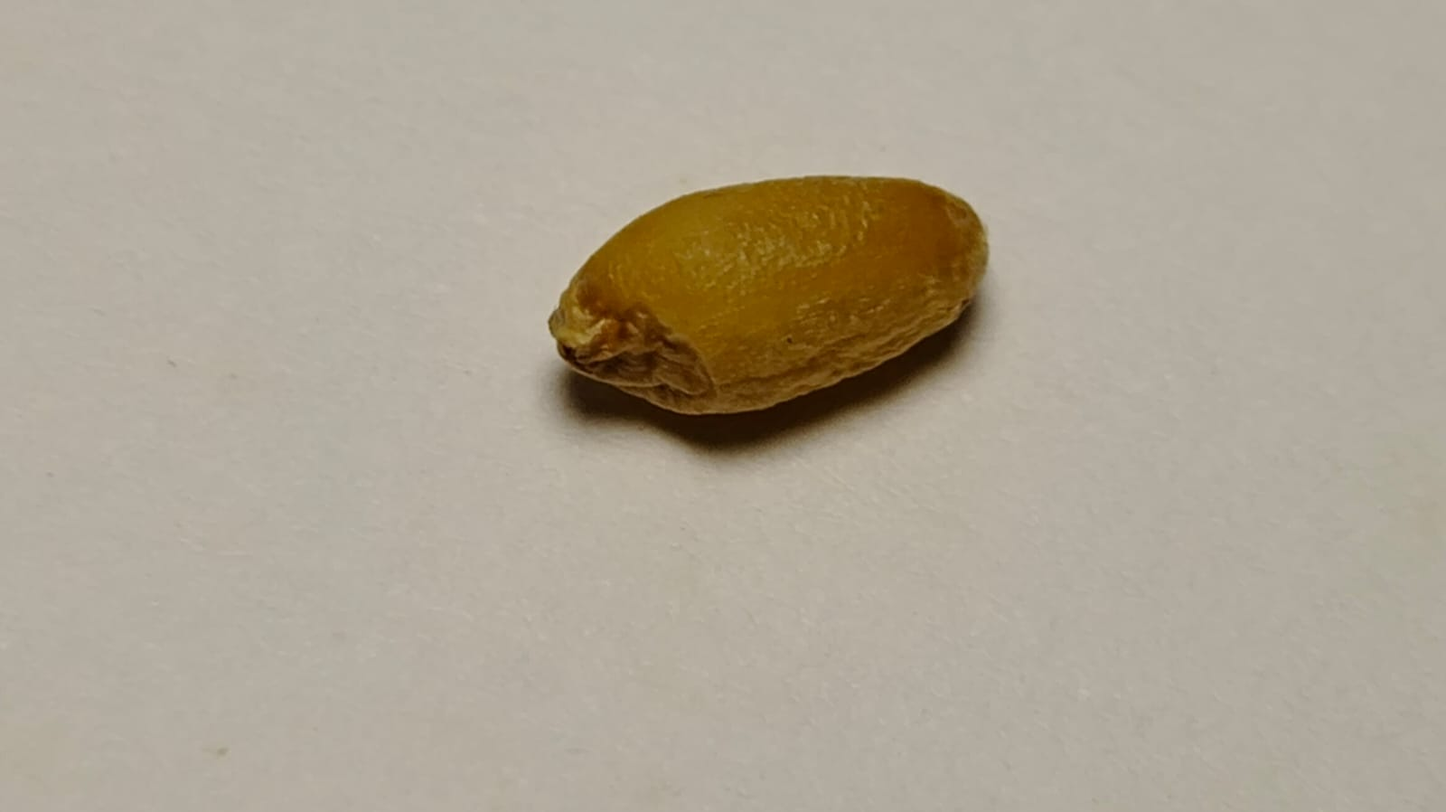healthy: (549, 176, 987, 412)
